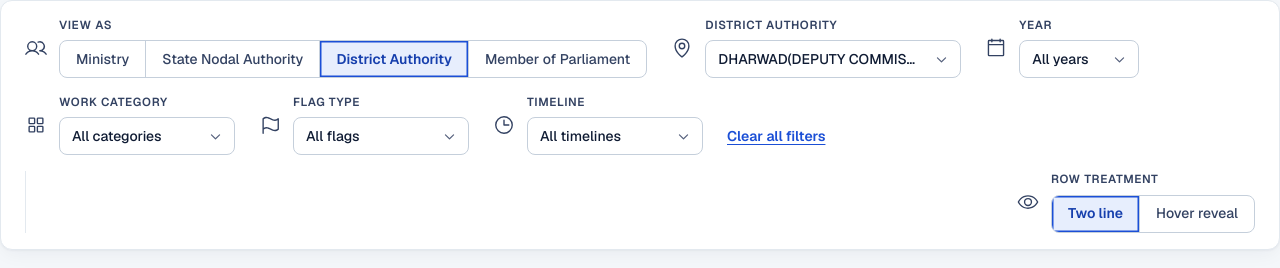
Test: FilterPanel: the 'View as' role lens (T6) › clears states, districtAuthority and constituency when the lens is switched, even back to the same one
Check: the button "DHARWAD(DEPUTY COMMISSIONER DHARWAR_IDA)" is shown, box [705,40,961,78]
Click the radio button labelled "Member of Parliament" at point(557, 59), box [468,41,646,77]
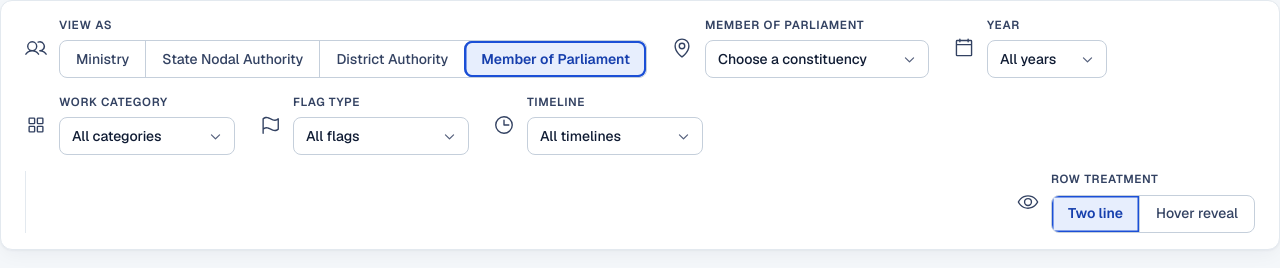
Click the radio button labelled "District Authority" at point(392, 59), box [319,41,464,77]
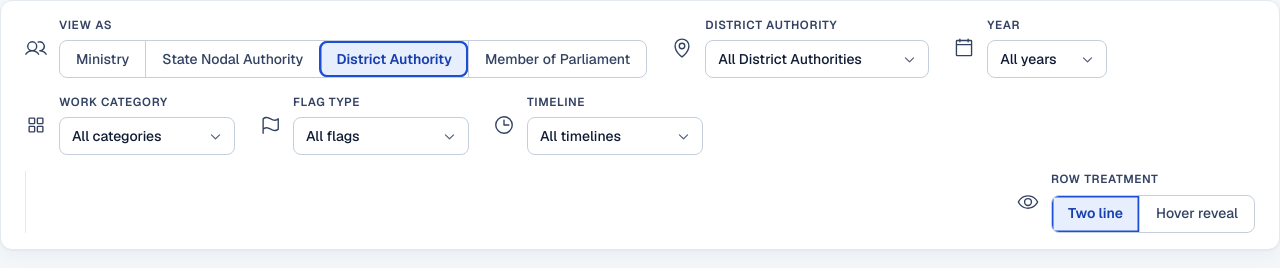
Check: the button "All District Authorities" is shown, box [705,40,929,78]
